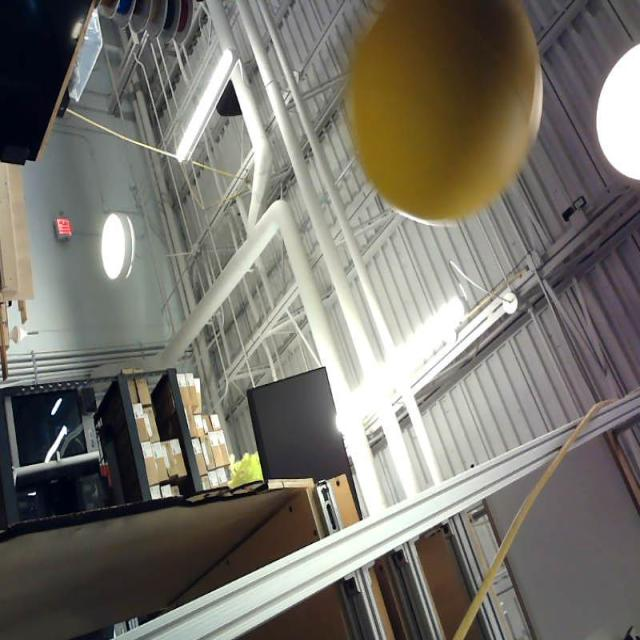Fuel: (352, 0, 543, 221)
